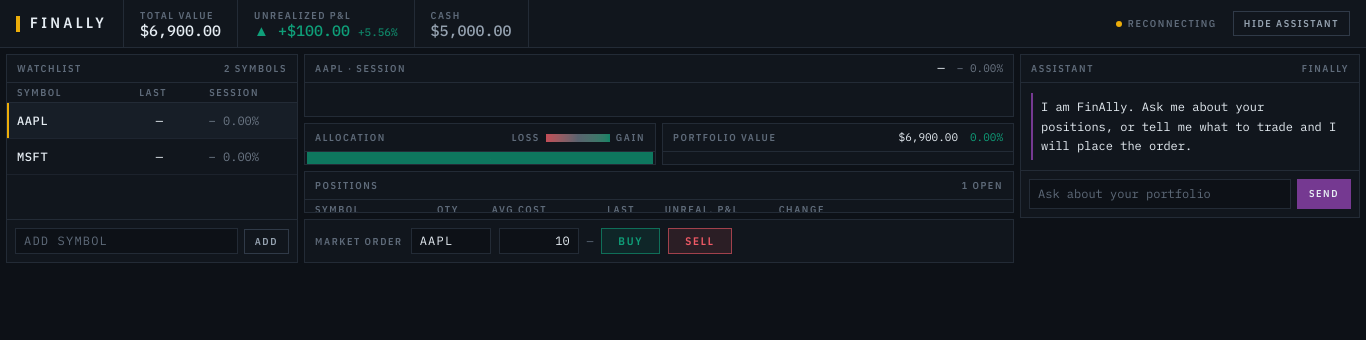
it: Workstation › shows a ticker the assistant added to the watchlist
Expected: the button with test id "watchlist-row-AAPL" is shown, [7,103,297,139]
In the field with test id "chat-input": (1160, 194) [1029,178,1291,208], type "Add PYPL to my watchlist"
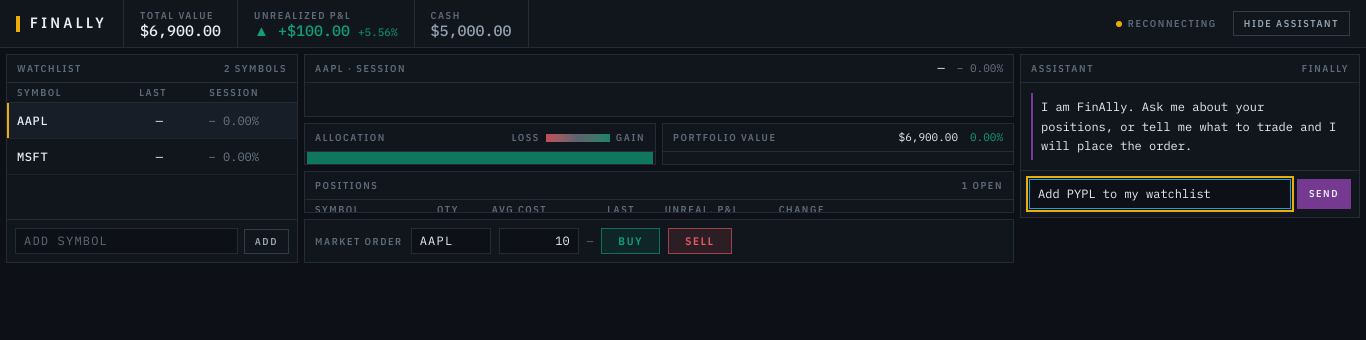
Click the button with test id "chat-send": (1324, 194) [1297,178,1351,208]
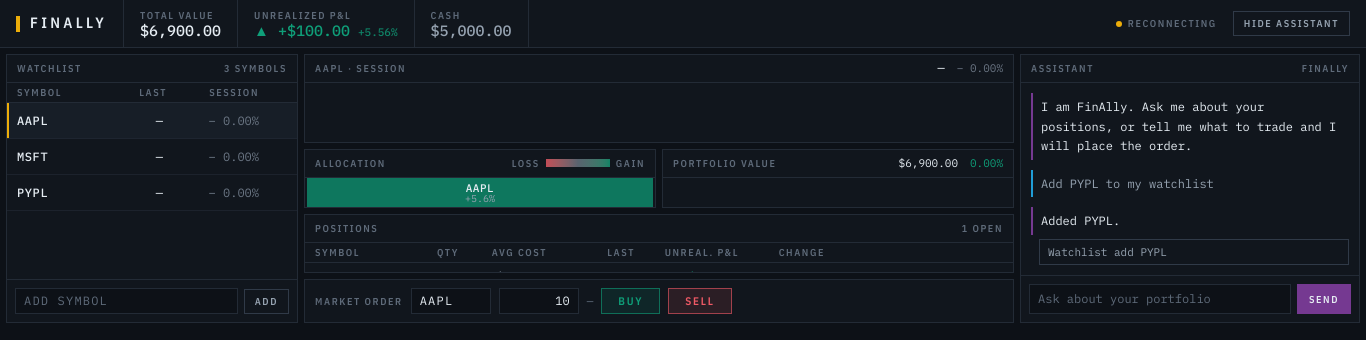
Expected: the text with test id "watchlist-count" reads "3 symbols", [224,63,287,74]
Now the text "Watchlist add PYPL" is shown, box [1039,238,1349,265]
Now the button with test id "watchlist-row-PYPL" is shown, box [7,175,297,211]
